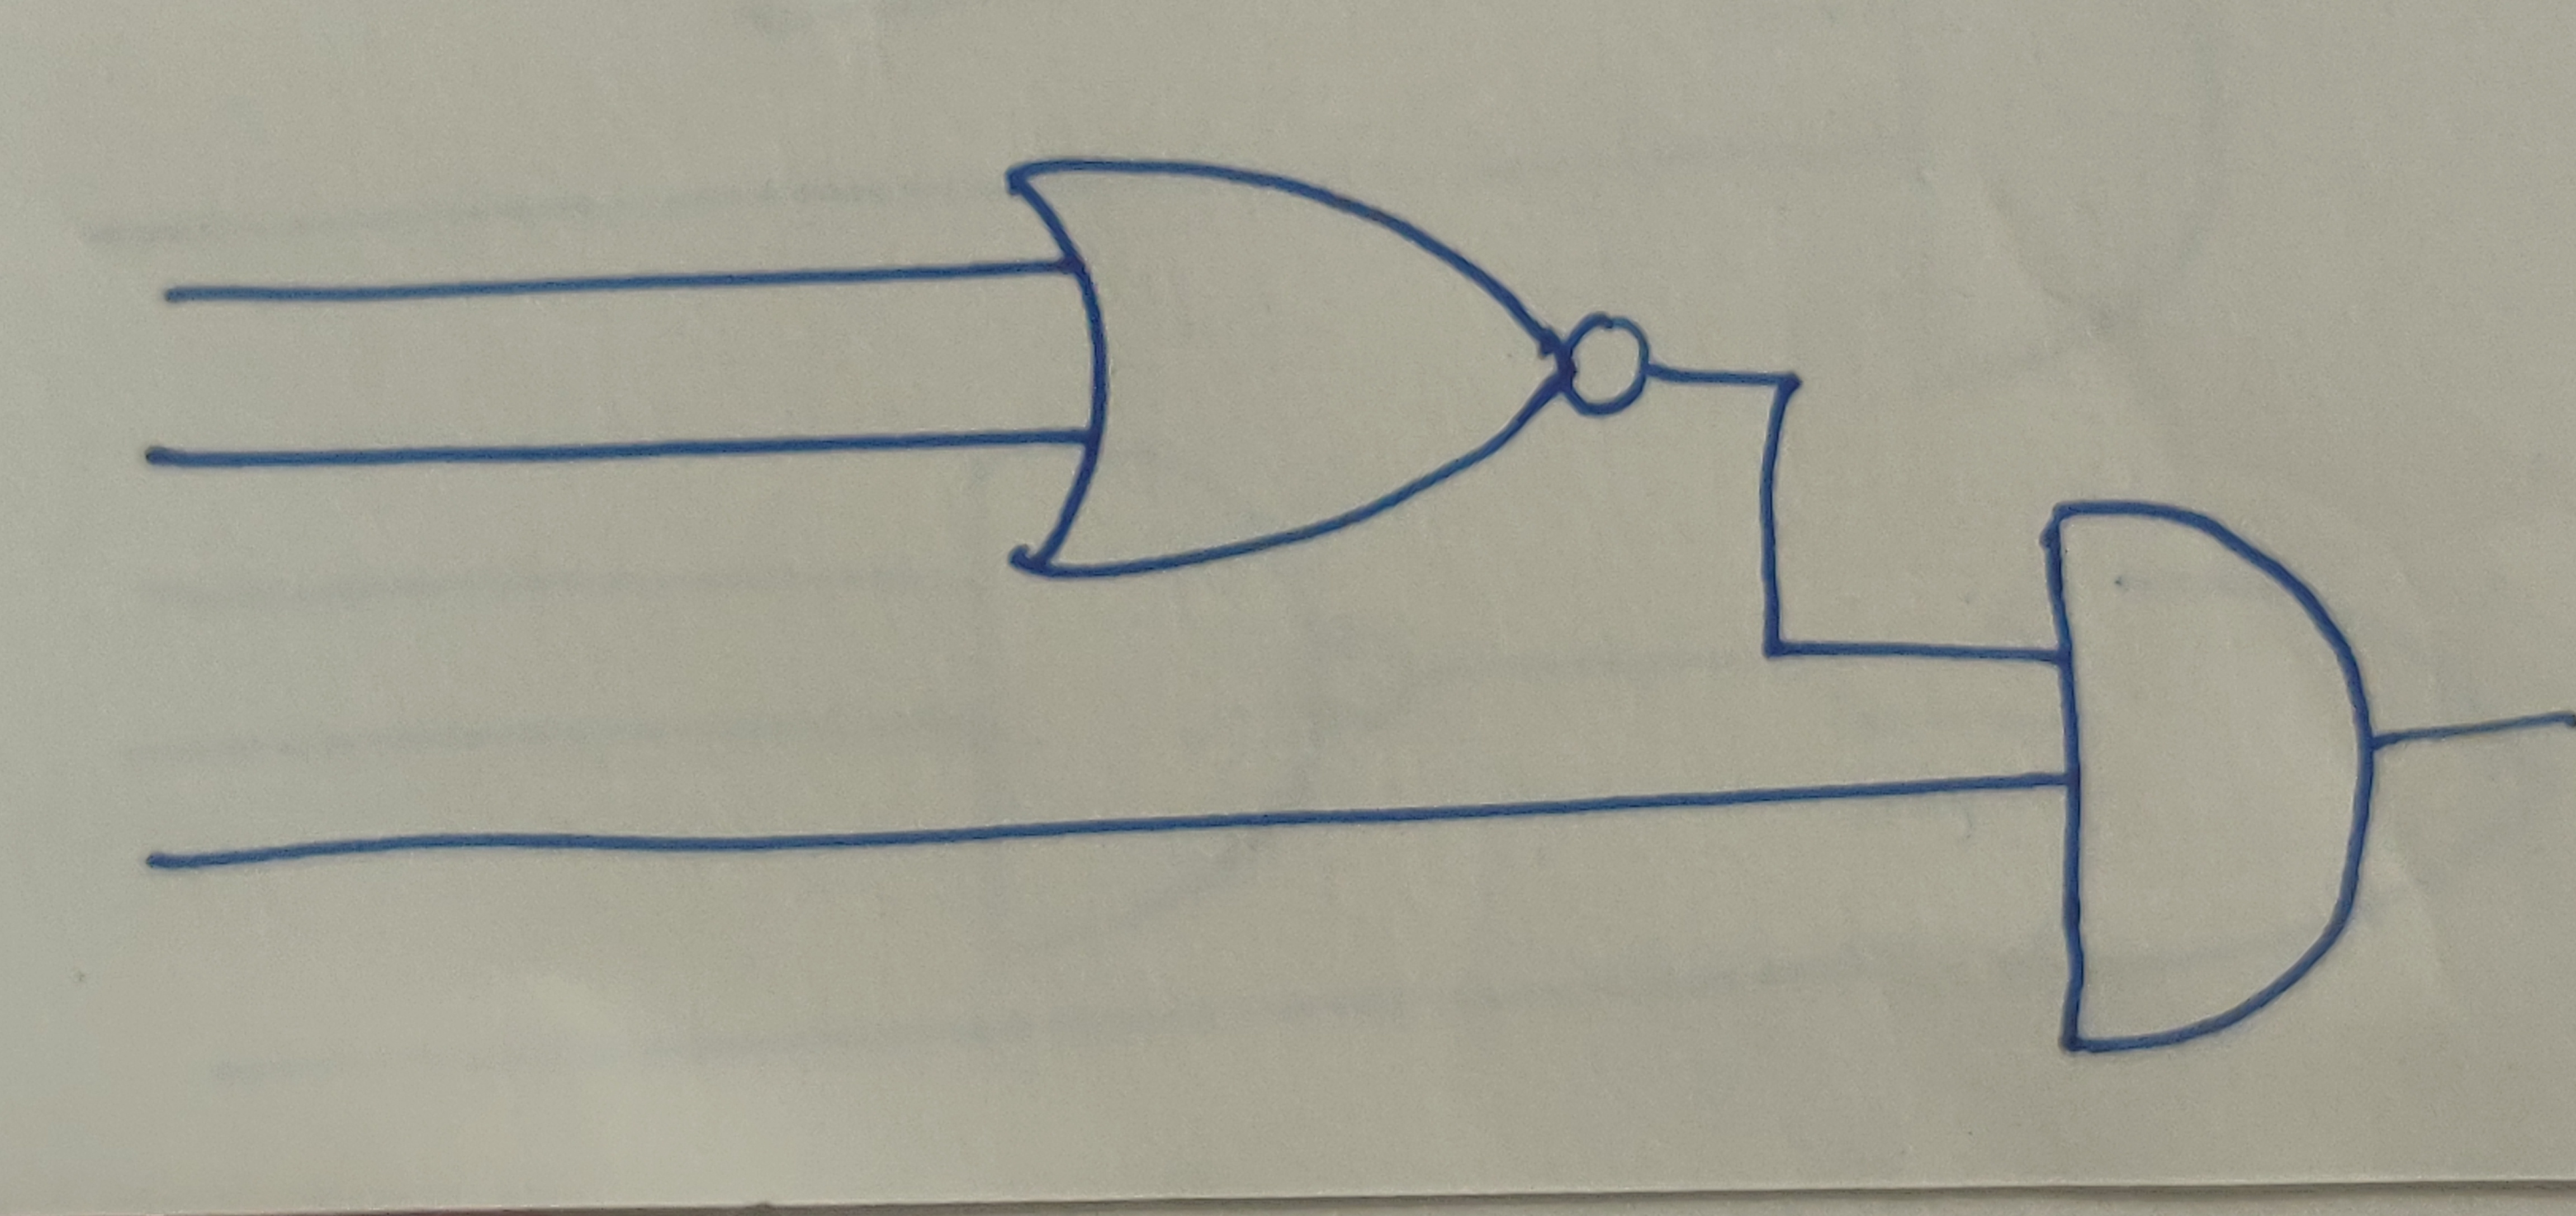and: (2037, 496, 2372, 1055)
not: (1567, 316, 1659, 421)
or: (1002, 158, 1571, 588)
